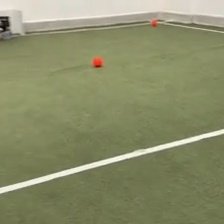ball: (92, 56, 103, 66), (151, 19, 156, 26)
goal: (1, 8, 26, 36)
robot: (1, 15, 11, 37)
